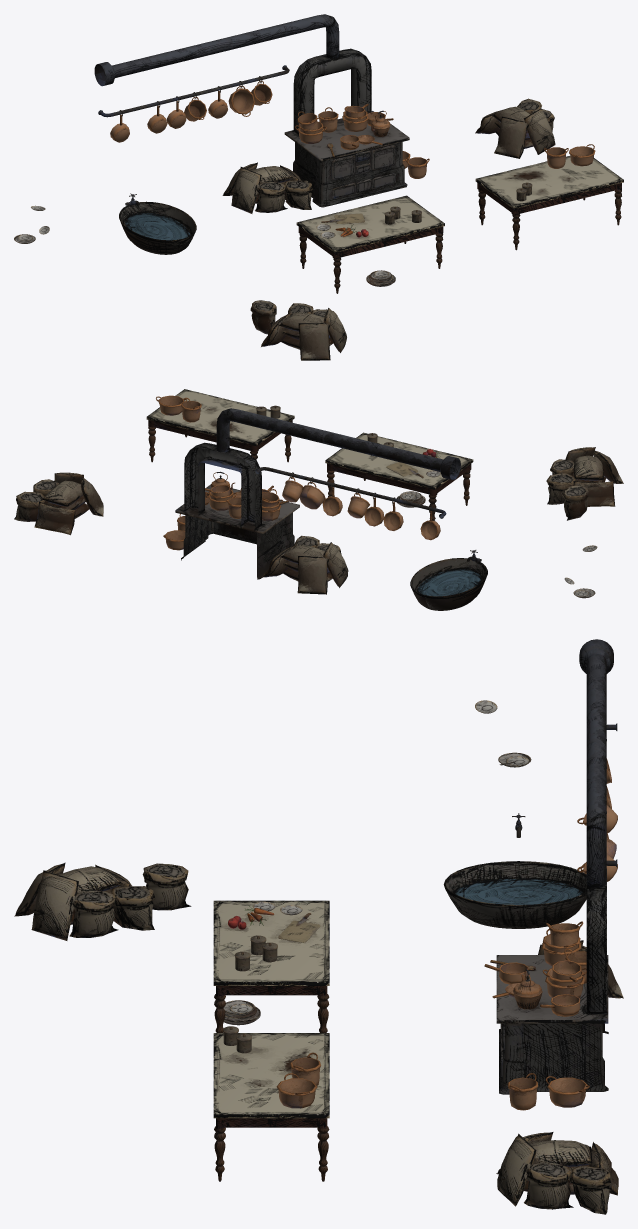
File: plate.fbx
3 renders of one model, top to bottom at view 1: azimuth 30°, elevation 25°; view 2: azimuth 150°, elevation 25°; view 3: azimuth 270°, elevation 25°, orthographic. The views are drawn at different scales.
Parts seen in each view (by area): view 1: Strove.006, Strove.004, Strove.003, Strove.002, Strove.005; view 2: Strove.006, Strove.004, Strove.003, Strove.002, Strove.005, Strove.011; view 3: Strove.006, Strove.004, Strove.003, Strove.002, Strove.005, Strove.011.
Part boxes in pixels (x1=…): Strove.006: x1=94, y1=14, x2=429, y2=254; Strove.004: x1=475, y1=144, x2=623, y2=250; Strove.003: x1=296, y1=195, x2=444, y2=293; Strove.002: x1=250, y1=300, x2=346, y2=360; Strove.005: x1=475, y1=98, x2=555, y2=158; Strove.006: x1=163, y1=408, x2=487, y2=610; Strove.004: x1=146, y1=389, x2=294, y2=462; Strove.003: x1=325, y1=432, x2=473, y2=520; Strove.002: x1=546, y1=447, x2=623, y2=520; Strove.005: x1=14, y1=472, x2=103, y2=535; Strove.011: x1=396, y1=491, x2=425, y2=507; Strove.006: x1=443, y1=639, x2=623, y2=1110; Strove.004: x1=213, y1=1026, x2=329, y2=1181; Strove.003: x1=213, y1=900, x2=329, y2=1032; Strove.002: x1=14, y1=862, x2=191, y2=940; Strove.005: x1=496, y1=1132, x2=618, y2=1214; Strove.011: x1=223, y1=1000, x2=260, y2=1025.
Bounding box in the file's own units: 825 × 243 × 522.
1 material, 1 textured.
